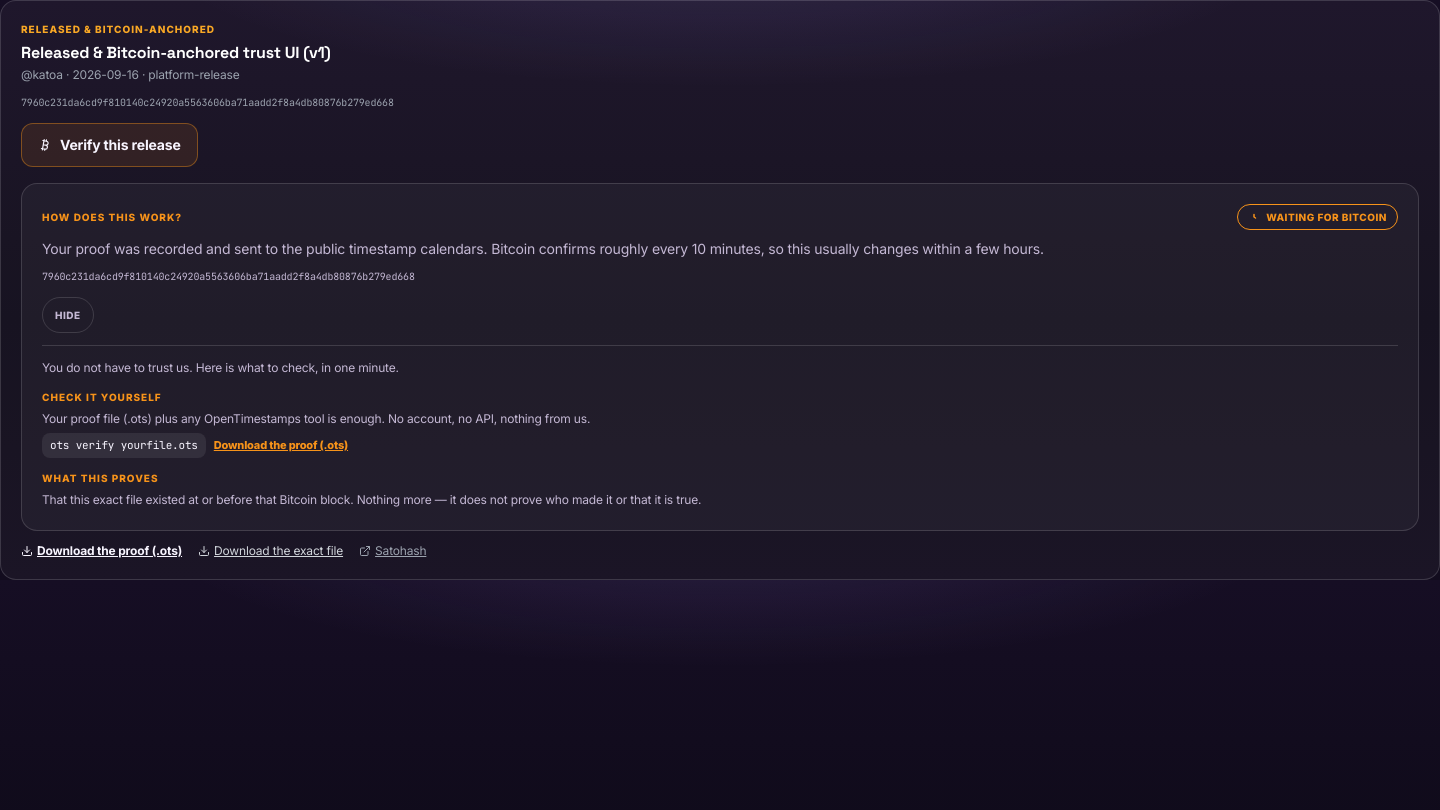
Test: ReleaseAttestation — "Released & Bitcoin-anchored" › renders a forged / unresolved proof as "Not proven" — never softened
This screenshot has width=1440, height=810.
Click the button with test id "verify-release-button".
click(109, 145)  # box [21,123,198,167]
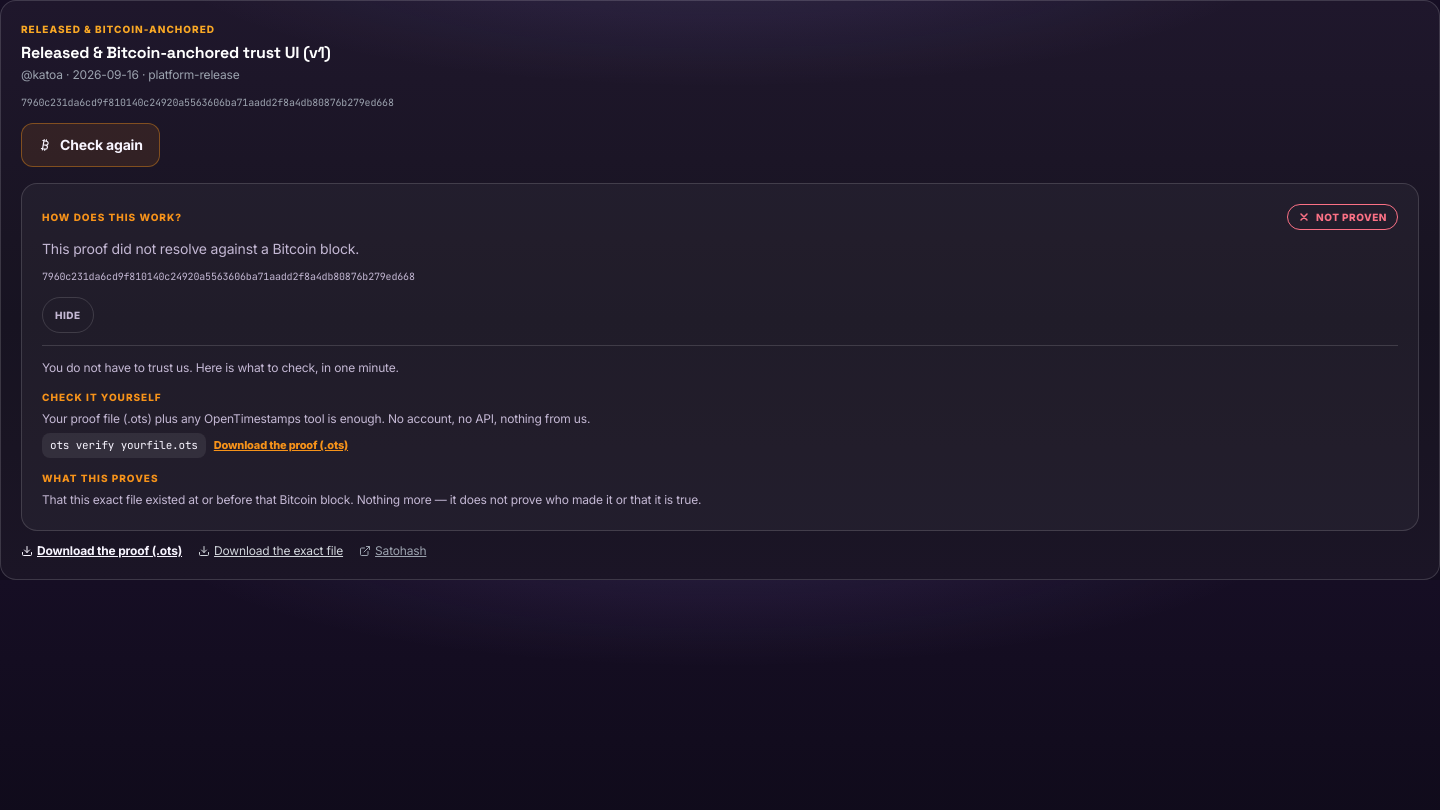
Result: the message with test id "proof-state-badge" reads "Not proven" at [1316,211,1387,223]
